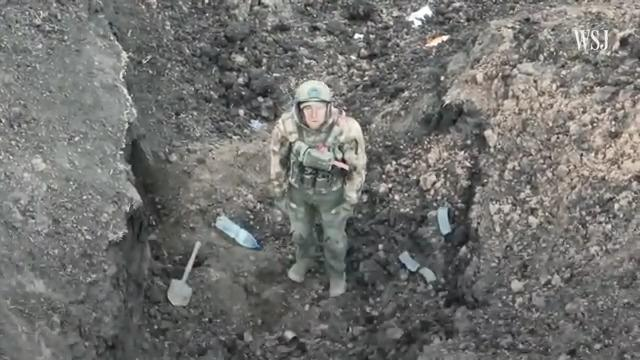Civilian: (271, 81, 365, 297)
